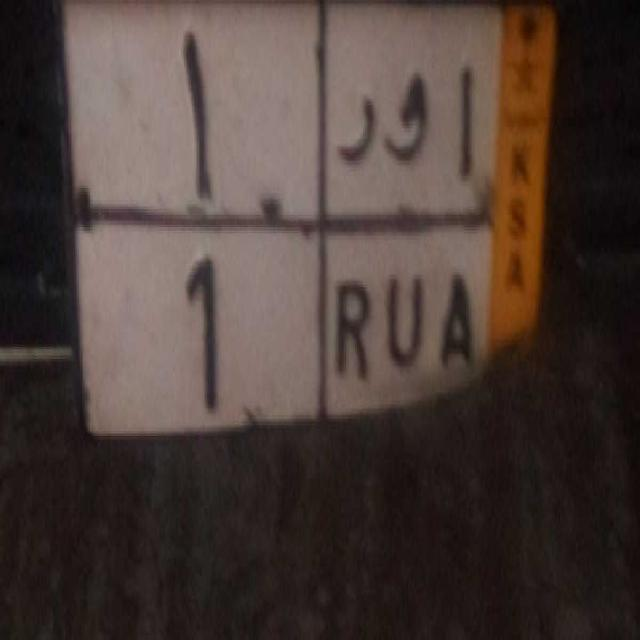license_plate: (71, 212, 492, 429)
